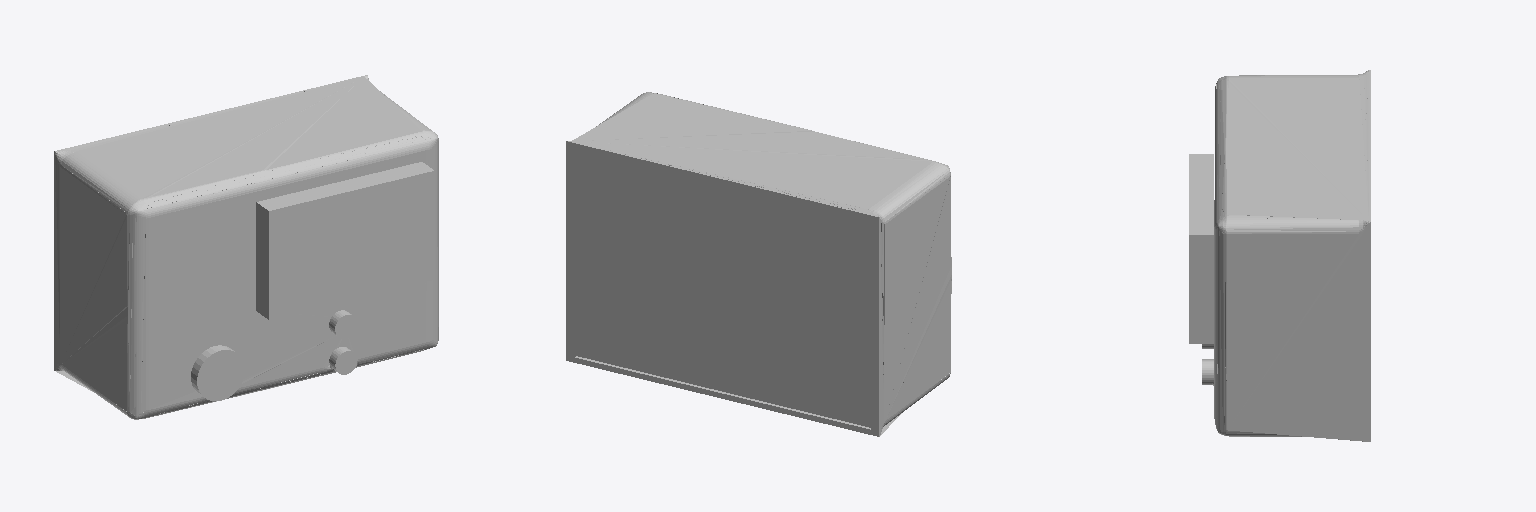
Rendered from dep.obj.
3 views of the same model, side by side, from view 1: azimuth 30°, elevation 25°; view 2: azimuth 150°, elevation 25°; view 3: azimuth 270°, elevation 25° (orthographic).
Visible parts, largest first — view 1: основа_впнд.002_Куб.022; view 2: основа_впнд.002_Куб.022; view 3: основа_впнд.002_Куб.022.
Part boxes in pixels (bbox=[...]): основа_впнд.002_Куб.022: bbox=[54, 75, 438, 419]; основа_впнд.002_Куб.022: bbox=[566, 92, 951, 436]; основа_впнд.002_Куб.022: bbox=[1189, 70, 1370, 441].
Size of the model in its own units: 1.09 by 0.7297 by 0.5452.